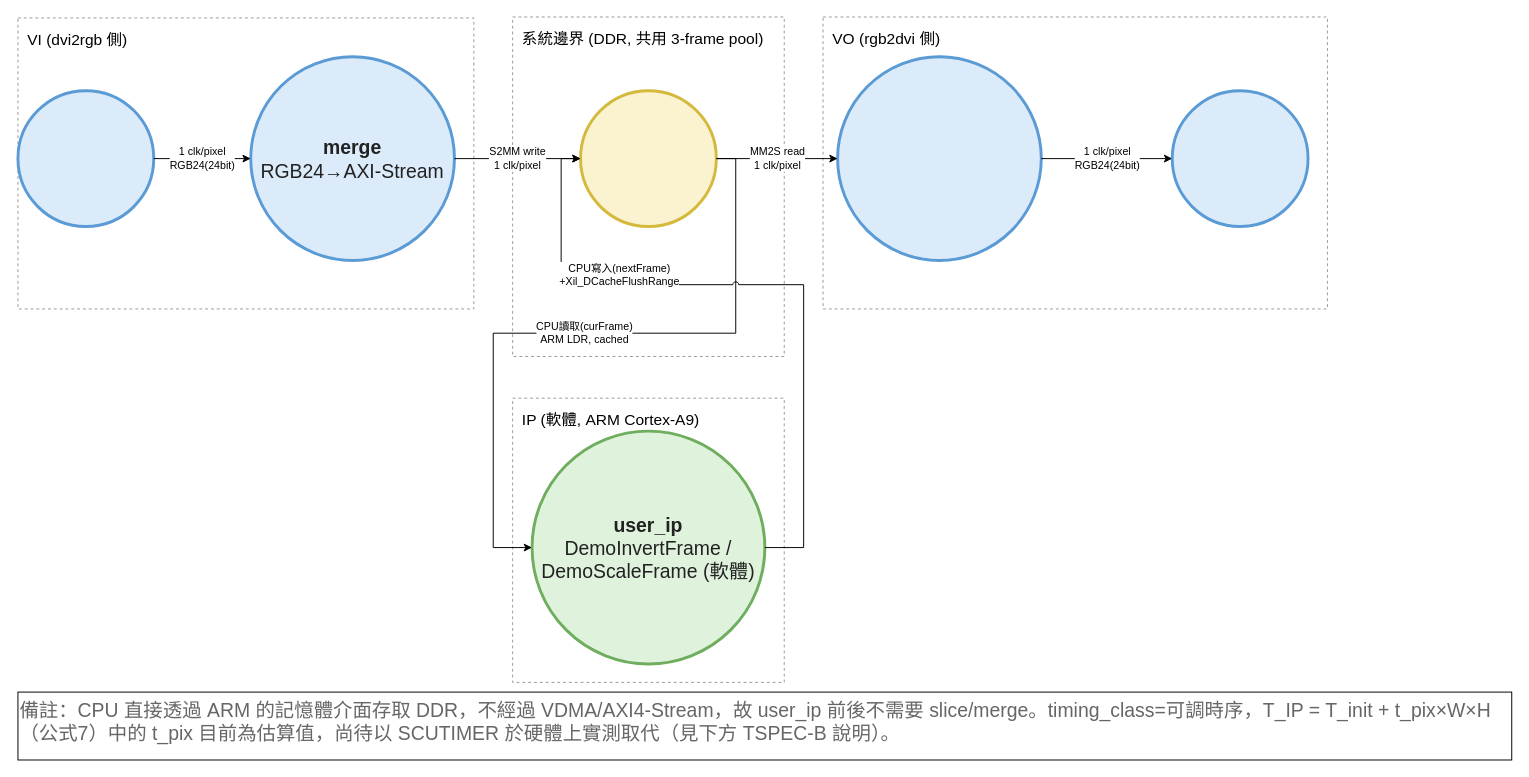
Image size: 1529x777. Some labels were removed from this diagram. The shapes that lost their labels are listed below. From the top down, each one's centre as x and y in pixels, then its label:
the point at 85,158: video_in RGB24, 24bit
the point at 648,158: DDR RGB24, 24bit 3 frames
the point at 939,158: slice AXI-Stream→RGB24
the point at 1239,158: video_out RGB24, 24bit
